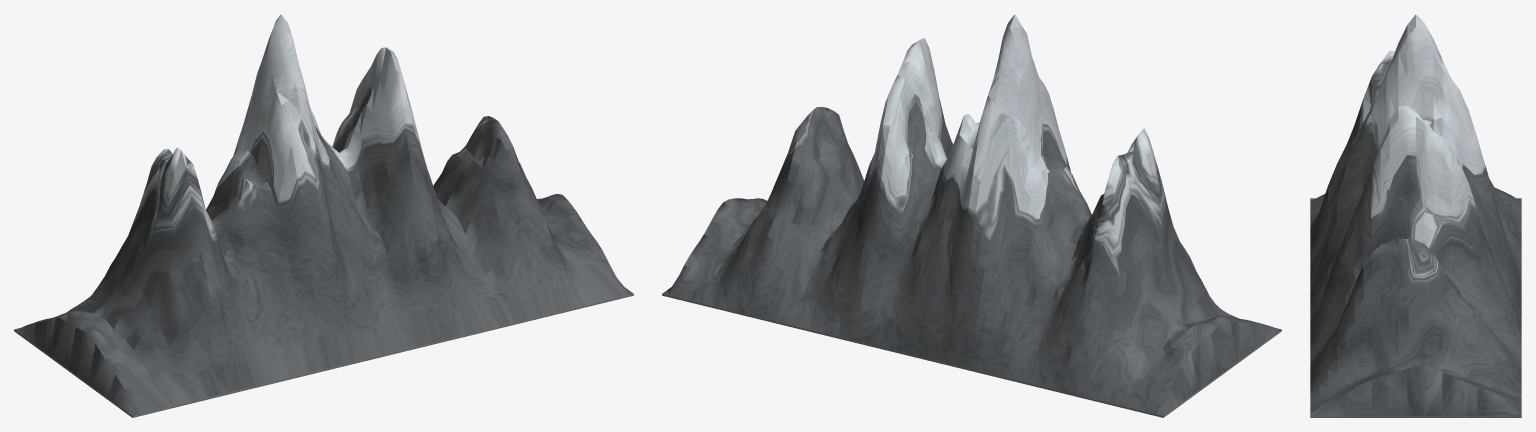
File: snow_peak_ridge.glb
The picture shows the model from 3 angles, left to right: view 1: azimuth 30°, elevation 25°; view 2: azimuth 150°, elevation 25°; view 3: azimuth 270°, elevation 25°; orthographic projection. The views are drawn at different scales.
Parts seen in each view (by area): view 1: snow_peak_ridge; view 2: snow_peak_ridge; view 3: snow_peak_ridge.
Part boxes in pixels (left/top/right/bottom): snow_peak_ridge: left=14, top=14, right=633, bottom=417; snow_peak_ridge: left=662, top=14, right=1281, bottom=417; snow_peak_ridge: left=1310, top=14, right=1521, bottom=417.
Size of the model in its own units: 44 by 26 by 18.
1 material, 1 textured.
